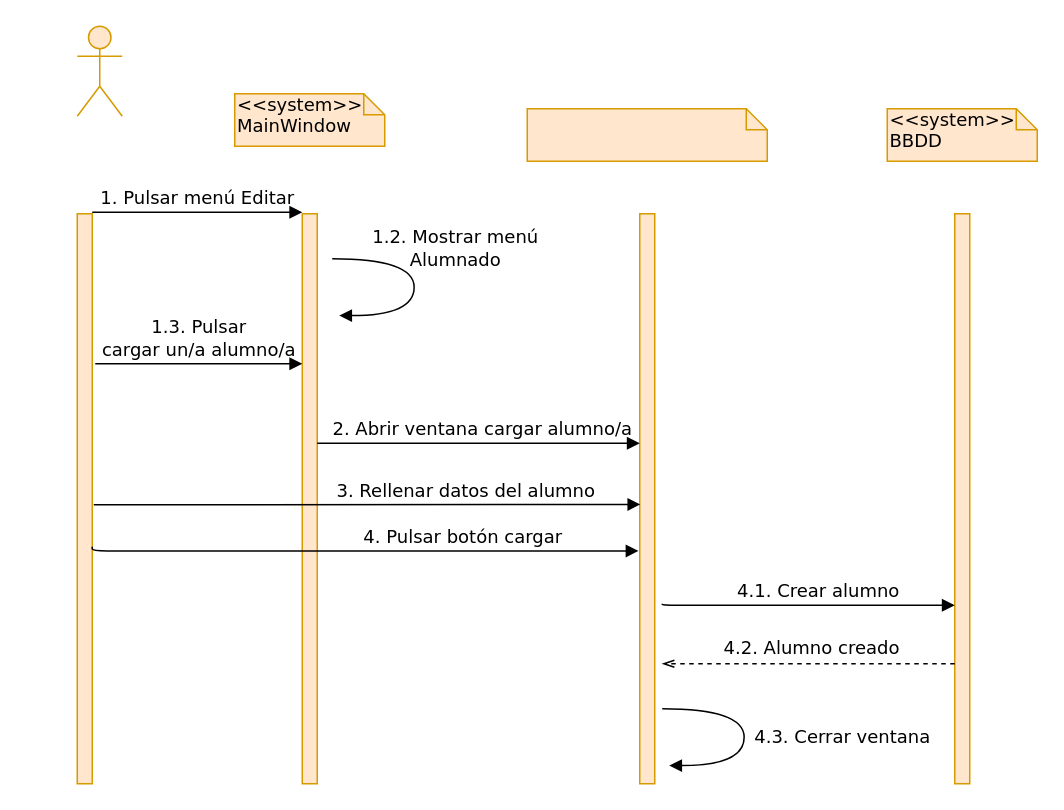
Image size: 1064x810. Some labels were removed from this diagram. Here are the shapes that lost their labels. From the top down, the box of each, then its label:
(76, 25, 122, 116): <<user>> Maestro
(526, 107, 767, 161): <<system>> CargarAlumnoWindow
